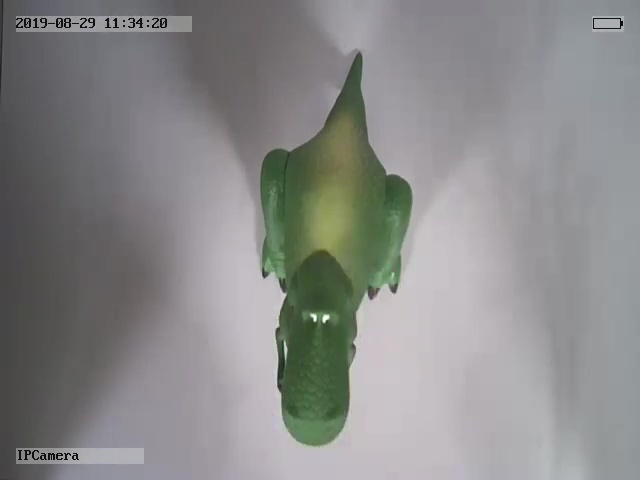rex: (253, 49, 414, 446)
